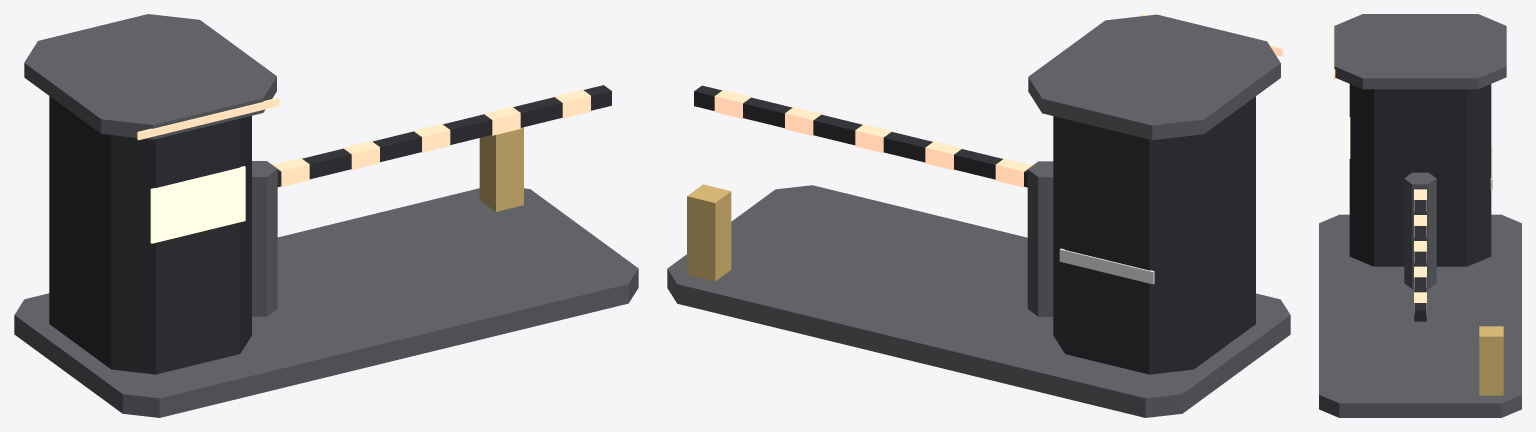
Rendered from Prop_Aegis_Checkpoint.fbx.
3 renders of one model, left to right at view 1: azimuth 30°, elevation 25°; view 2: azimuth 150°, elevation 25°; view 3: azimuth 270°, elevation 25°, orthographic. The views are drawn at different scales.
Visible parts, largest first — view 1: PCK_Base, PCK_Booth, PCK_Roof, PCK_Window, PCK_BoomBar, PCK_Post, PCK_Bollard, PCK_RoofLight, PCK_BoomStripe2, PCK_BoomStripe0, PCK_BoomStripe1, PCK_BoomStripe3 (+1 smaller); view 2: PCK_Base, PCK_Booth, PCK_Roof, PCK_BoomBar, PCK_Post, PCK_Bollard, PCK_Team, PCK_BoomStripe4, PCK_BoomStripe1, PCK_BoomStripe0, PCK_BoomStripe2, PCK_BoomStripe3; view 3: PCK_Base, PCK_Booth, PCK_Roof, PCK_Post, PCK_Bollard, PCK_BoomBar.
Boxes of the visible parts, left/top/right/bottom form: PCK_Base: left=14, top=188, right=638, bottom=417; PCK_Booth: left=49, top=96, right=251, bottom=374; PCK_Roof: left=24, top=14, right=276, bottom=139; PCK_Window: left=150, top=166, right=245, bottom=243; PCK_BoomBar: left=277, top=85, right=611, bottom=186; PCK_Post: left=252, top=161, right=277, bottom=316; PCK_Bollard: left=479, top=127, right=523, bottom=211; PCK_RoofLight: left=137, top=97, right=279, bottom=140; PCK_BoomStripe2: left=413, top=123, right=450, bottom=152; PCK_BoomStripe0: left=273, top=158, right=309, bottom=186; PCK_BoomStripe1: left=343, top=141, right=379, bottom=169; PCK_BoomStripe3: left=484, top=106, right=520, bottom=135; PCK_Base: left=667, top=185, right=1290, bottom=417; PCK_Booth: left=1053, top=96, right=1255, bottom=374; PCK_Roof: left=1028, top=14, right=1280, bottom=139; PCK_BoomBar: left=694, top=85, right=1027, bottom=187; PCK_Post: left=1027, top=161, right=1053, bottom=316; PCK_Bollard: left=687, top=184, right=731, bottom=281; PCK_Team: left=1059, top=248, right=1154, bottom=284; PCK_BoomStripe4: left=714, top=90, right=751, bottom=118; PCK_BoomStripe1: left=925, top=141, right=962, bottom=170; PCK_BoomStripe0: left=995, top=158, right=1032, bottom=187; PCK_BoomStripe2: left=855, top=124, right=891, bottom=152; PCK_BoomStripe3: left=785, top=107, right=821, bottom=135; PCK_Base: left=1319, top=214, right=1521, bottom=417; PCK_Booth: left=1349, top=84, right=1491, bottom=266; PCK_Roof: left=1334, top=14, right=1506, bottom=89; PCK_Post: left=1404, top=172, right=1436, bottom=289; PCK_Bollard: left=1479, top=326, right=1503, bottom=395; PCK_BoomBar: left=1414, top=188, right=1426, bottom=321.
Bounding box in the file's own units: 2.32 × 1.16 × 1.
